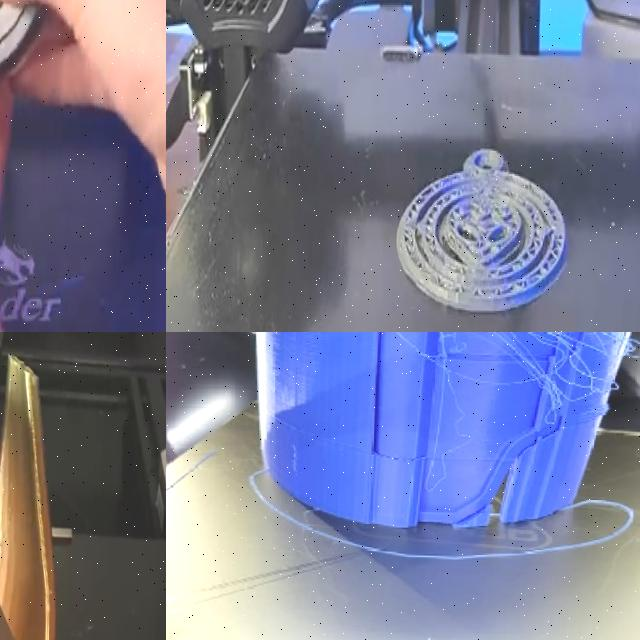spaghetti: (213, 332, 640, 387)
